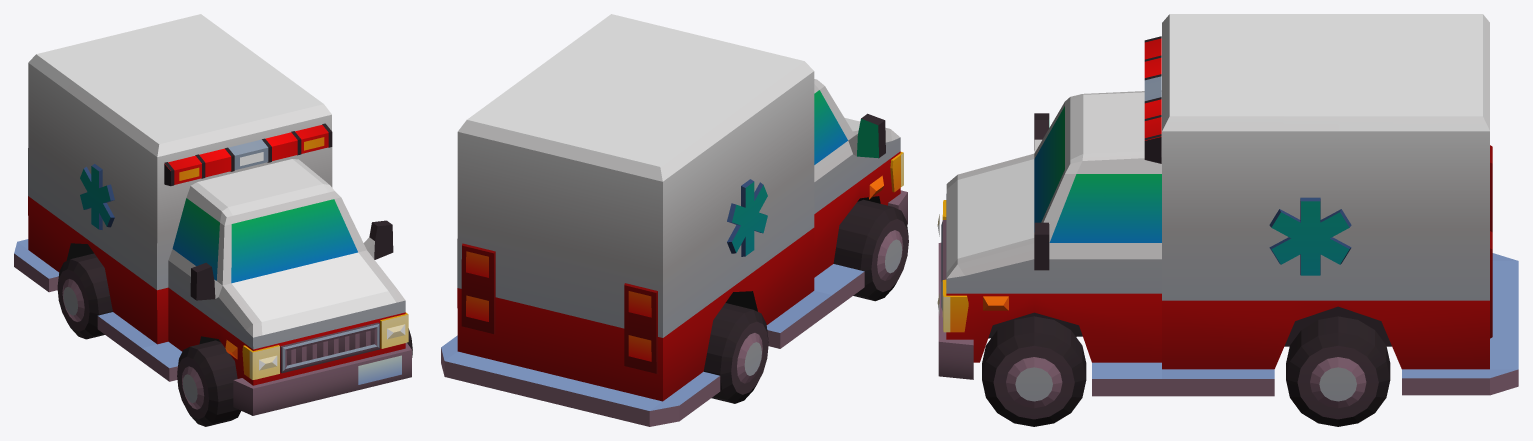
File: SketchFabAmbulance.fbx
3 views of the same model, side by side, from view 1: azimuth 30°, elevation 25°; view 2: azimuth 150°, elevation 25°; view 3: azimuth 270°, elevation 25° (orthographic). The views are drawn at different scales.
Visible parts, largest first — view 1: NEW; view 2: NEW; view 3: NEW.
Boxes of the visible parts, <box> form: NEW: <box>14,14,412,426</box>; NEW: <box>441,14,908,426</box>; NEW: <box>937,14,1518,426</box>.
Size of what is drawn, in the model's own units: 204 by 220 by 385.
